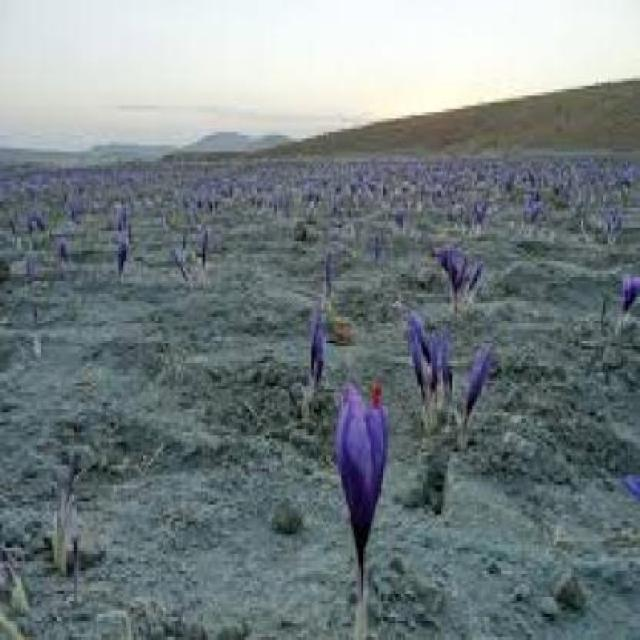Flower: (338, 391, 390, 560), (467, 344, 490, 425), (617, 270, 640, 312)
